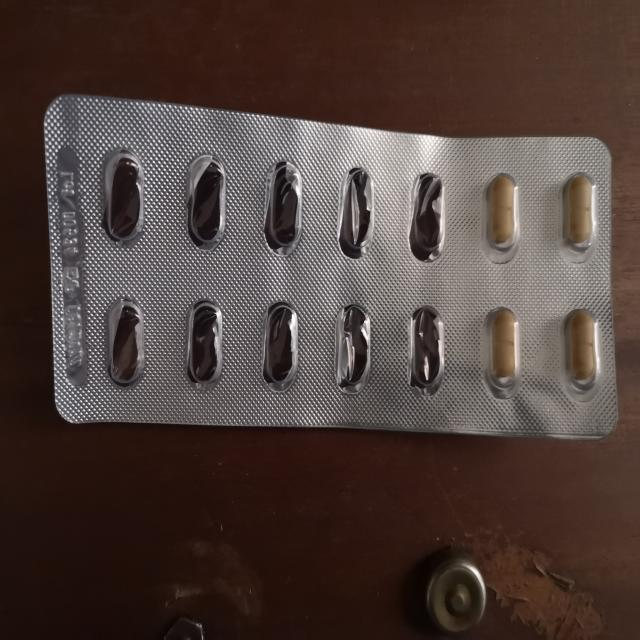Empty: (174, 142, 234, 252), (181, 284, 232, 398), (255, 148, 306, 260), (403, 159, 453, 273), (102, 284, 152, 396), (96, 146, 152, 245), (402, 299, 452, 409), (336, 148, 380, 269), (256, 291, 305, 394), (332, 293, 376, 402)
Pill: (477, 292, 529, 404), (558, 299, 608, 404), (555, 159, 605, 260), (482, 160, 529, 262)
